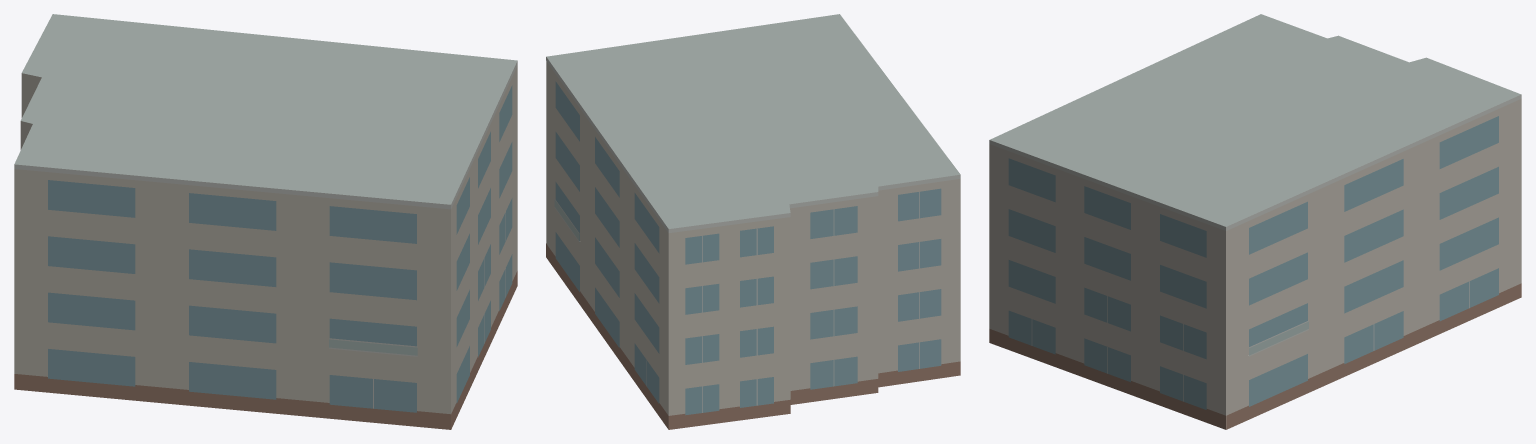
Rendered from survey-upis-32492375.glb.
The picture shows the model from 3 angles, left to right: view 1: azimuth 30°, elevation 25°; view 2: azimuth 150°, elevation 25°; view 3: azimuth 270°, elevation 25°; orthographic projection. The views are drawn at different scales.
Parts seen in each view (by area): view 1: survey-upis-32492375.tmp; view 2: survey-upis-32492375.tmp; view 3: survey-upis-32492375.tmp.
Part boxes in pixels (x1,y1,x2,y2): survey-upis-32492375.tmp: [14, 14, 517, 429]; survey-upis-32492375.tmp: [546, 14, 960, 429]; survey-upis-32492375.tmp: [989, 14, 1521, 429].
Bounding box in the file's own units: 26.9 × 11.95 × 28.4.
